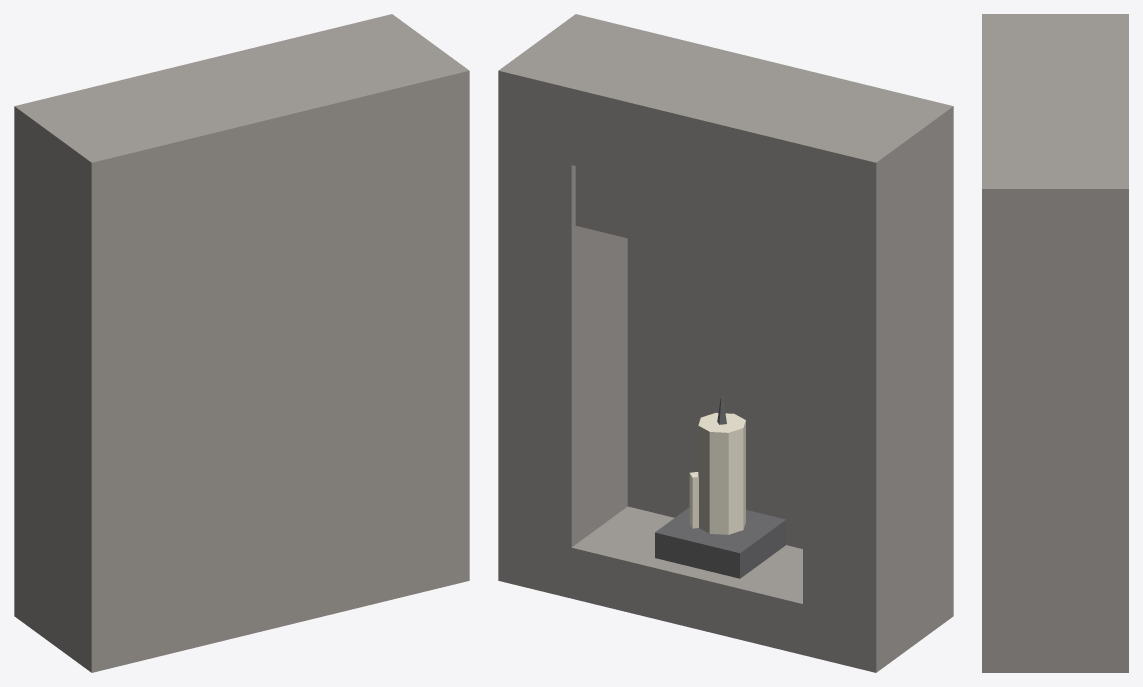
File: prop-candle-niche.fbx
3 renders of one model, left to right at view 1: azimuth 30°, elevation 25°; view 2: azimuth 150°, elevation 25°; view 3: azimuth 270°, elevation 25°, orthographic. The views are drawn at different scales.
Parts seen in each view (by area): view 1: prop-candle-niche; view 2: prop-candle-niche; view 3: prop-candle-niche.
Part boxes in pixels (x1,y1,x2,y2): prop-candle-niche: (14, 14, 469, 672); prop-candle-niche: (498, 14, 953, 672); prop-candle-niche: (982, 14, 1128, 672).
Bounding box in the file's own units: 0.62 × 0.8 × 0.22.
